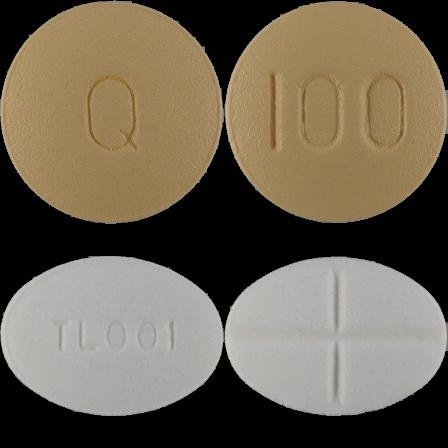49349-962: (0, 0, 224, 224)
